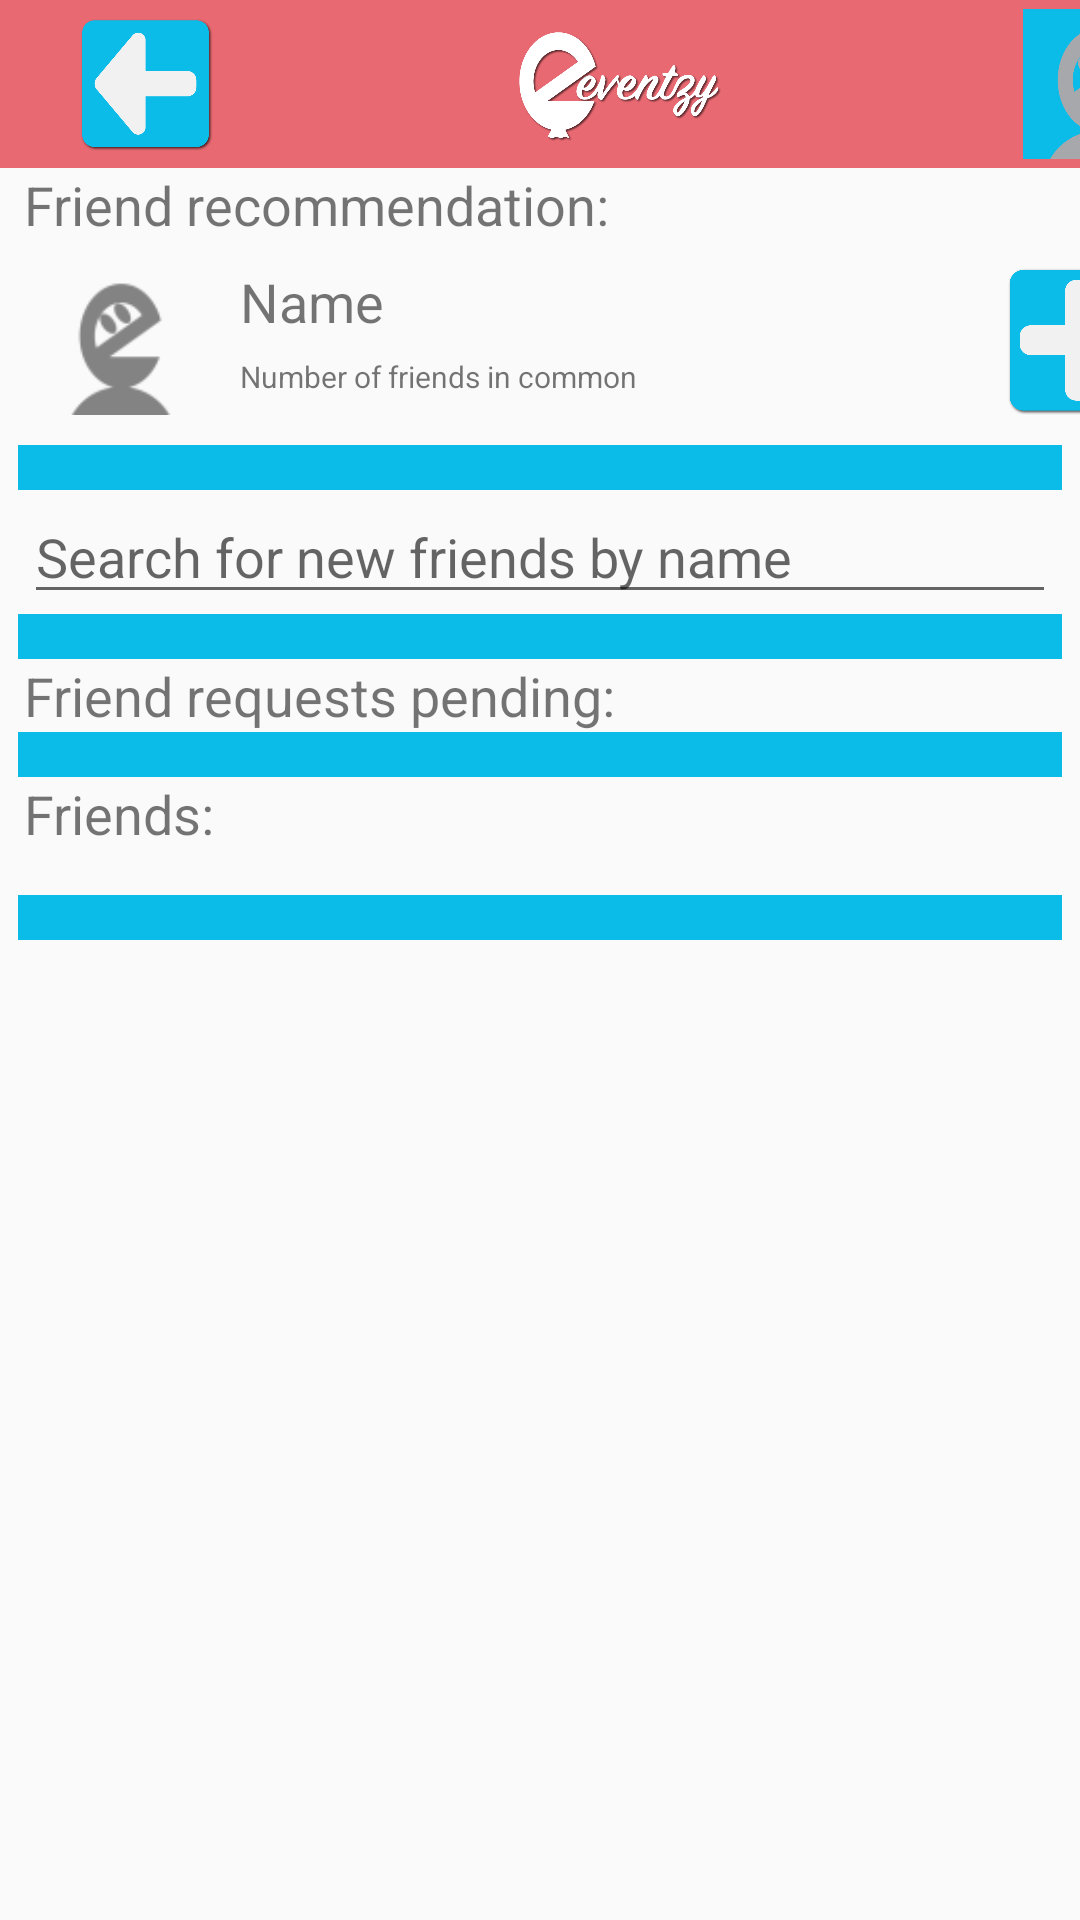

Screen size 1080 x 1920. Icon name, then its box in pixels as bbox(x1, y1, x2, y2):
back: bbox(82, 20, 212, 150)
